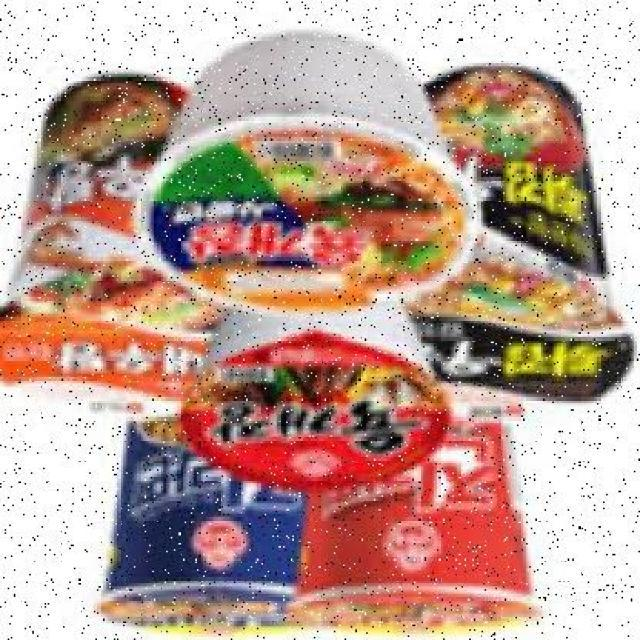Miscellaneous: (126, 35, 474, 312), (0, 73, 220, 433), (391, 62, 598, 424), (284, 368, 540, 634), (80, 373, 322, 635), (172, 280, 445, 492)
